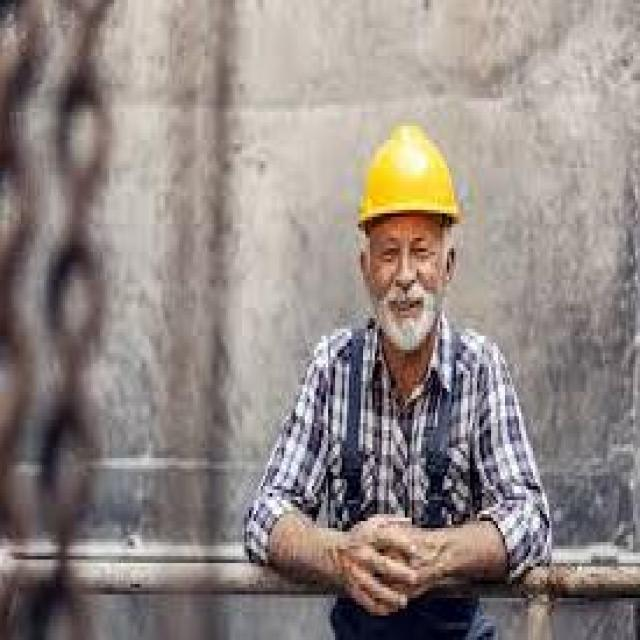Safety-Helmet: (349, 115, 473, 238)
